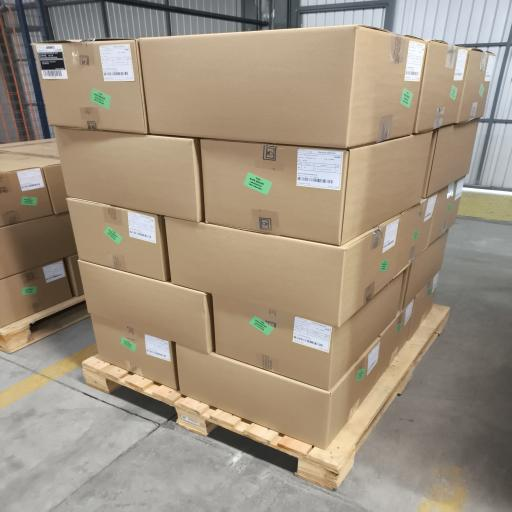pallet: (83, 305, 449, 489), (0, 295, 89, 353)
